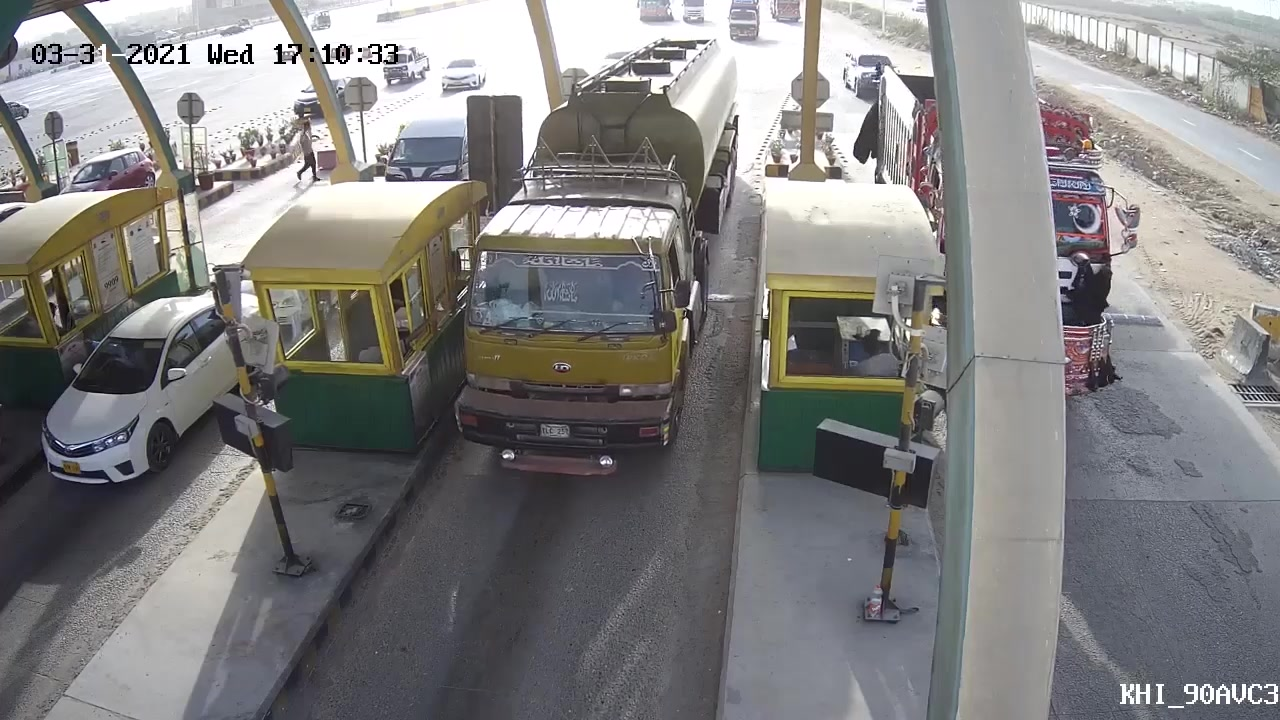F6: (452, 32, 744, 487)
